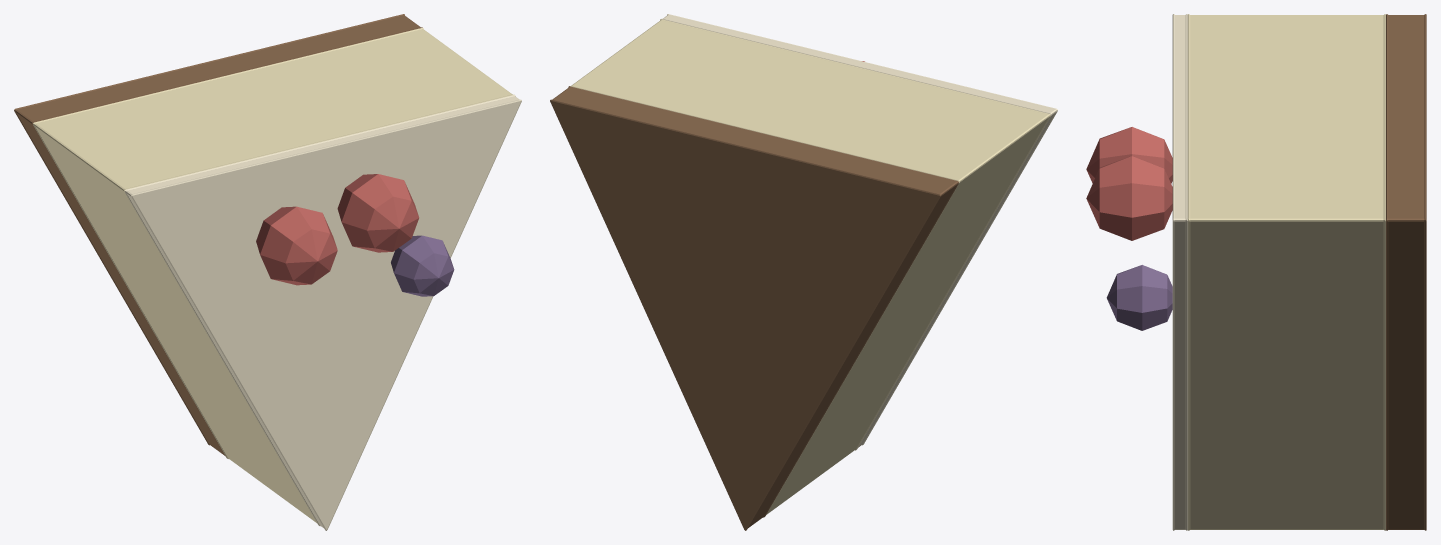
The model's file is cheesecake.glb.
3 renders of one model, left to right at view 1: azimuth 30°, elevation 25°; view 2: azimuth 150°, elevation 25°; view 3: azimuth 270°, elevation 25°, orthographic. The views are drawn at different scales.
Visible parts, largest first — view 1: cheesecake; view 2: cheesecake; view 3: cheesecake.
Part boxes in pixels (left/top/right/bottom): cheesecake: left=14, top=14, right=521, bottom=530; cheesecake: left=550, top=14, right=1057, bottom=530; cheesecake: left=1086, top=14, right=1426, bottom=530.
Size of the model in its own units: 0.0959 by 0.09 by 0.067.
